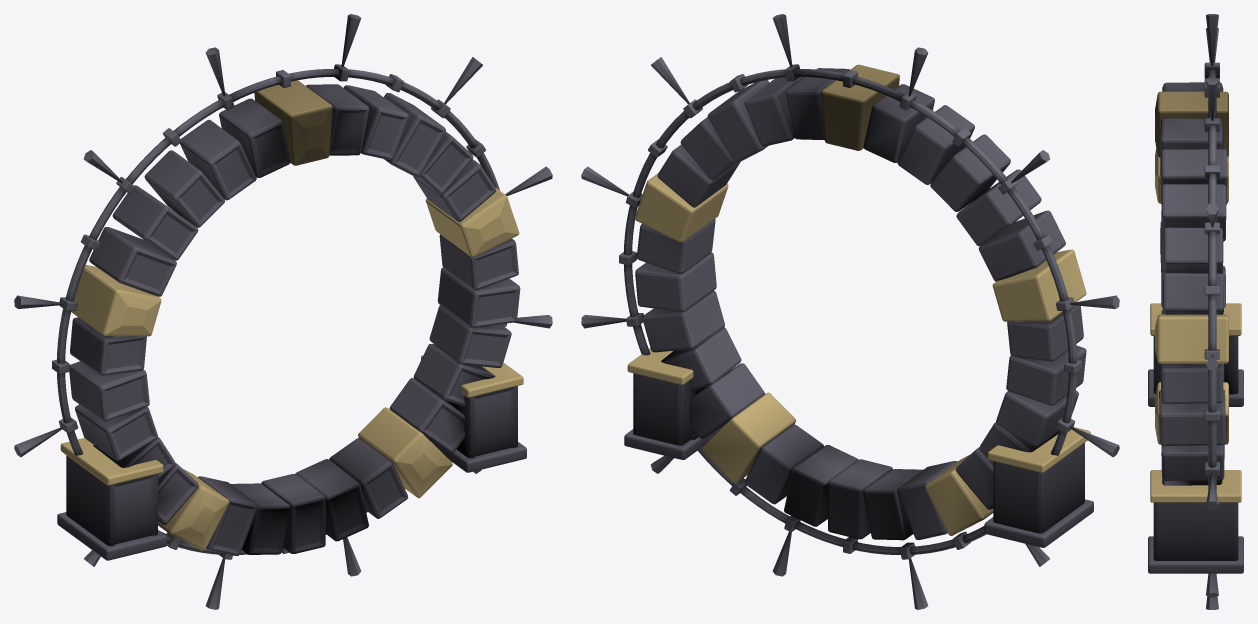
File: portal.glb
The picture shows the model from 3 angles, left to right: view 1: azimuth 30°, elevation 25°; view 2: azimuth 150°, elevation 25°; view 3: azimuth 270°, elevation 25°; orthographic projection. The views are drawn at different scales.
Parts seen in each view (by area): view 1: Frame, Keystones, Supports, Spines, OuterRing; view 2: Frame, Keystones, Supports, OuterRing, Spines; view 3: Frame, Supports, Keystones, Spines, OuterRing.
Part boxes in pixels (bbox=[...]): Frame: bbox=[69, 84, 520, 555]; Keystones: bbox=[71, 80, 519, 550]; Supports: bbox=[57, 355, 526, 560]; Spines: bbox=[14, 14, 552, 609]; OuterRing: bbox=[57, 69, 499, 554]; Frame: bbox=[635, 68, 1086, 540]; Keystones: bbox=[634, 64, 1086, 535]; Supports: bbox=[624, 348, 1093, 547]; OuterRing: bbox=[624, 69, 1076, 554]; Spines: bbox=[581, 14, 1119, 609]; Frame: bbox=[1159, 82, 1227, 485]; Supports: bbox=[1148, 303, 1243, 573]; Keystones: bbox=[1155, 91, 1228, 444]; Spines: bbox=[1204, 14, 1219, 609]; OuterRing: bbox=[1208, 64, 1216, 490].
Size of the model in its own units: 10.68 by 10.68 by 1.75.
